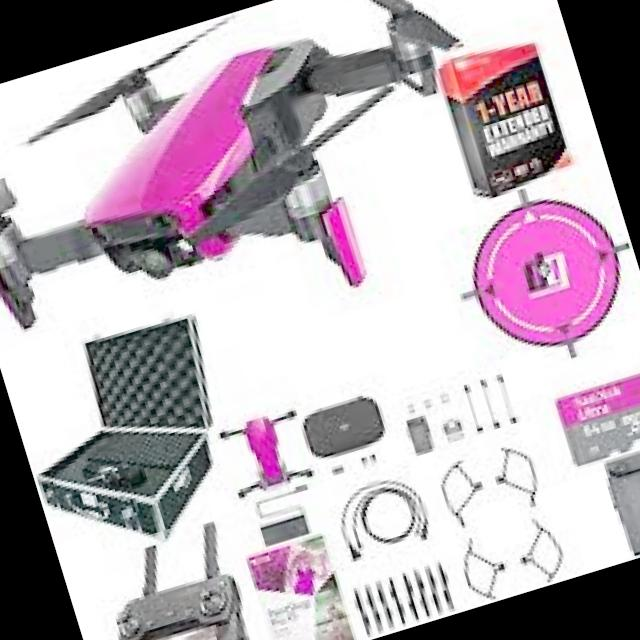drone: (0, 0, 521, 398)
